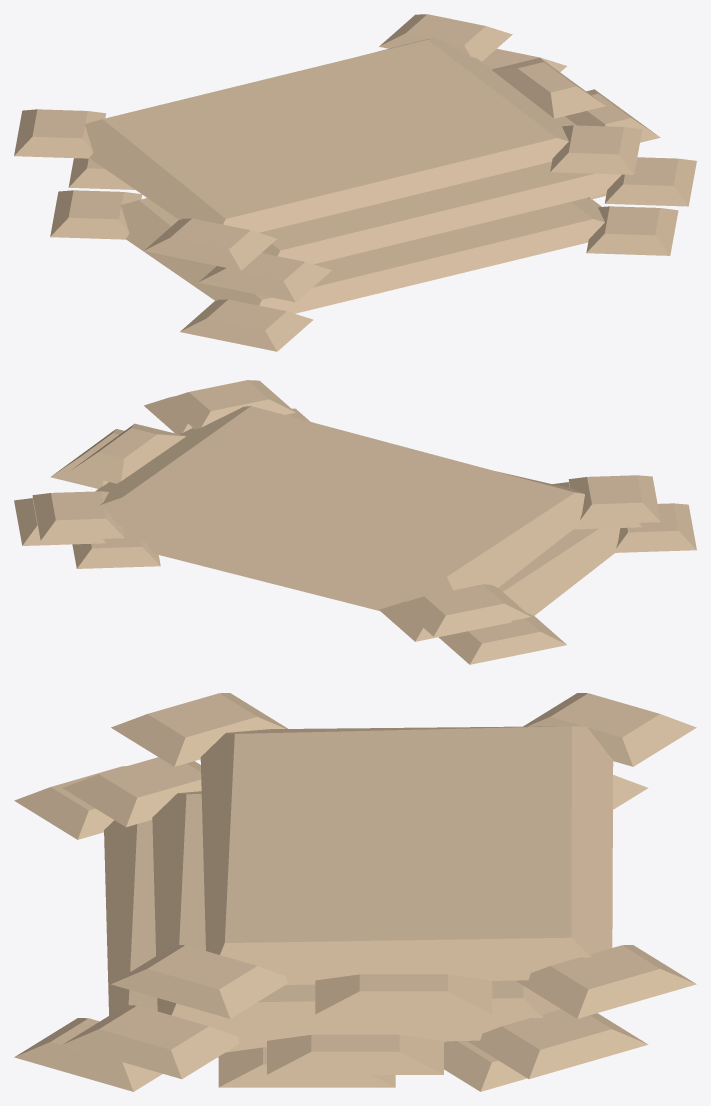
File: item_012_cured_hide_m.glb
3 views of the same model, one above another, from view 1: azimuth 30°, elevation 25°; view 2: azimuth 150°, elevation 25°; view 3: azimuth 270°, elevation 25° (orthographic). The views are drawn at different scales.
Parts seen in each view (by area): view 1: item_012_cured_hide_m; view 2: item_012_cured_hide_m; view 3: item_012_cured_hide_m.
Boxes of the visible parts, x1,y1,x2,y2 form: item_012_cured_hide_m: (14, 14, 696, 351); item_012_cured_hide_m: (14, 380, 696, 664); item_012_cured_hide_m: (14, 693, 696, 1091).
Bounding box in the file's own units: 1.03 × 0.1357 × 0.8476.
